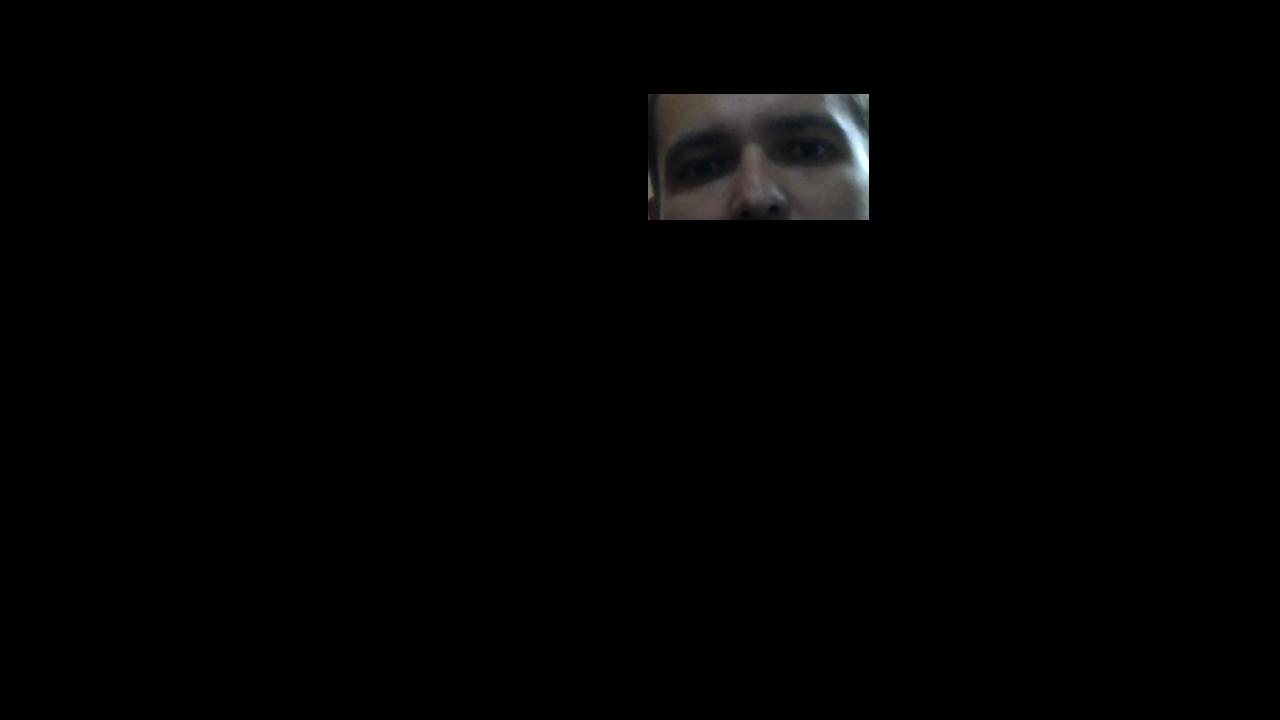eye: (798, 144, 822, 162), (692, 160, 714, 178)
